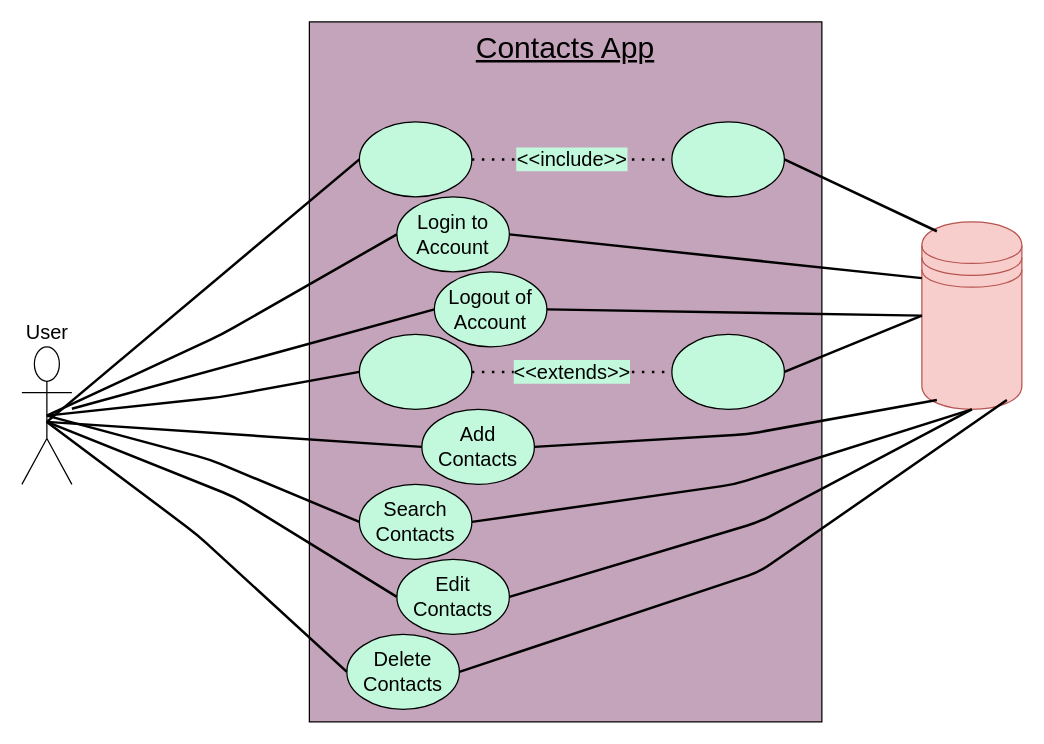
This 1044x744 diagram has some shape labels left out. Here are the shapes that lost their labels. From the top down, the centre of each, then its label:
At (415,159): "Register Account".
At (727,159): "Password Hash".
At (415,371): "View Contacts".
At (727,371): "Check if Logged in".
